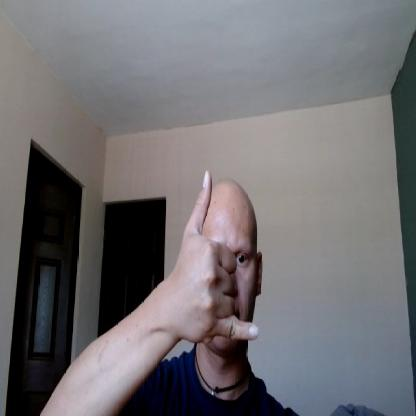Y: (173, 167, 261, 345)
